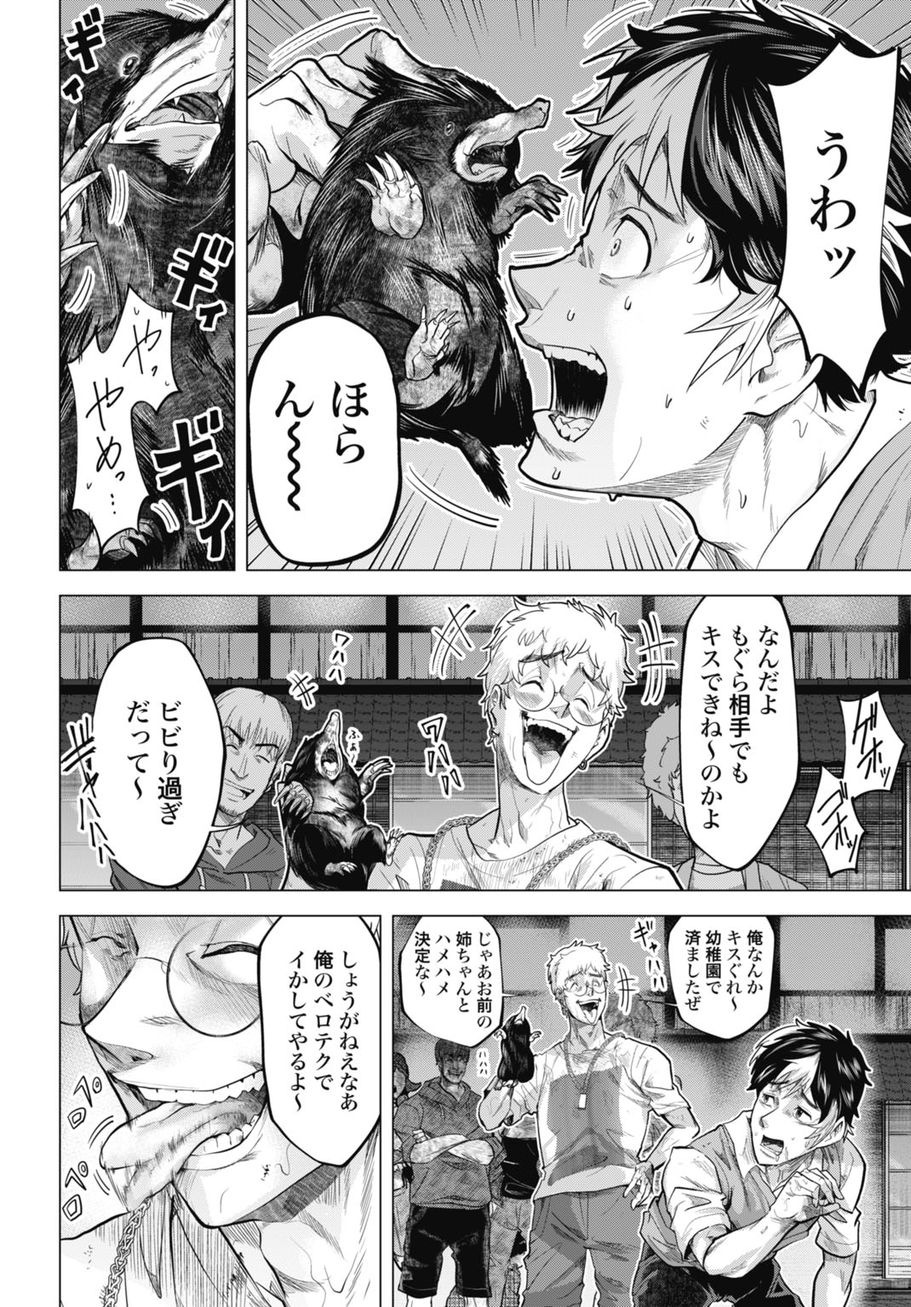bubbles: (758, 35, 903, 395), (245, 305, 409, 570), (77, 635, 228, 889), (677, 594, 807, 876), (250, 915, 381, 1181), (64, 279, 185, 562), (802, 689, 910, 883), (393, 916, 529, 1055), (654, 917, 790, 1047)
